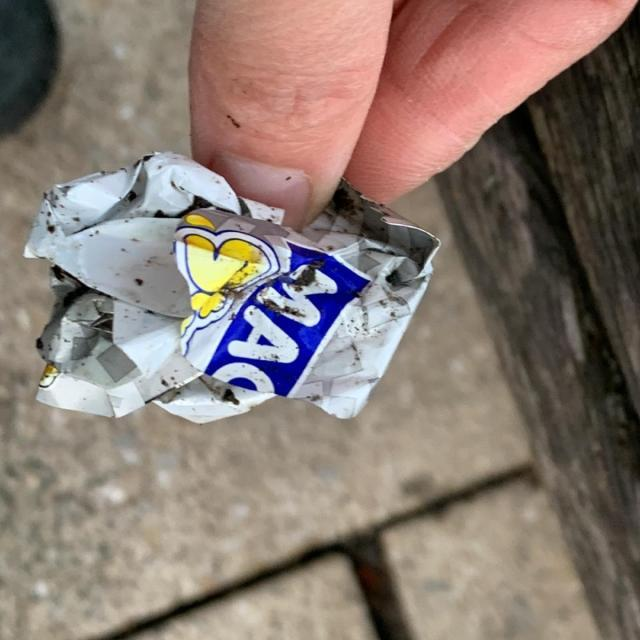Plastic: (22, 144, 447, 427)
